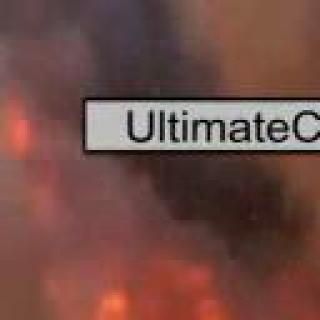fire: (75, 234, 320, 320), (0, 80, 48, 165)
